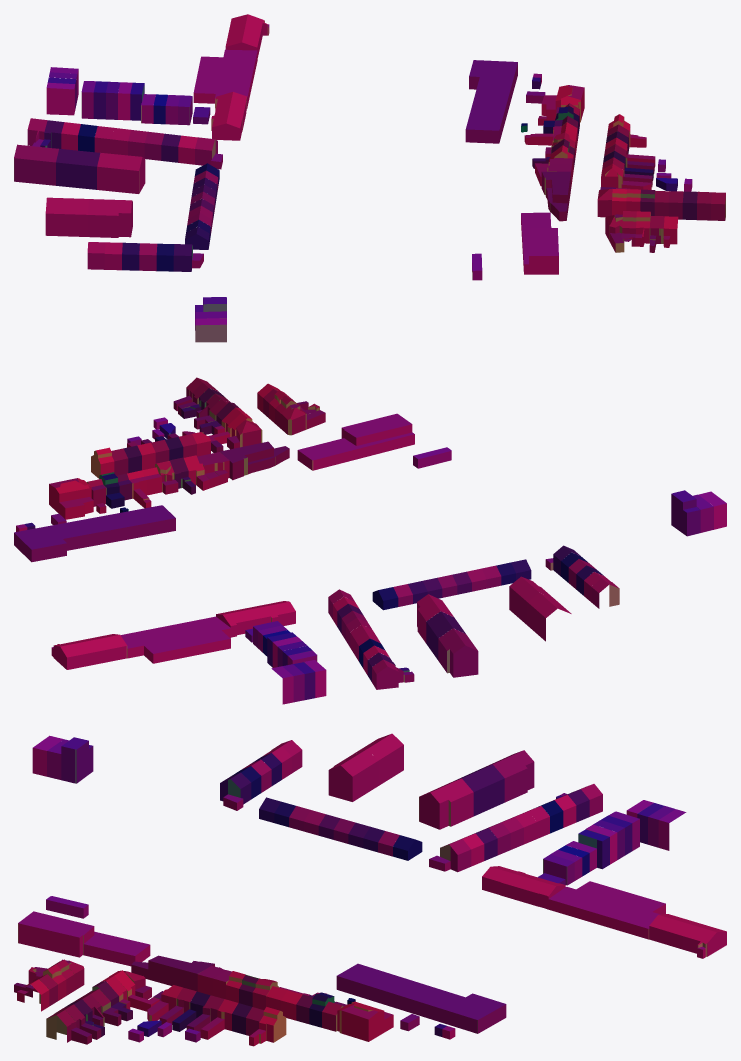
Rendered from buildings_4_7.glb.
3 views of the same model, one above another, from view 1: azimuth 30°, elevation 25°; view 2: azimuth 150°, elevation 25°; view 3: azimuth 270°, elevation 25° (orthographic). The views are drawn at different scales.
Parts seen in each view (by area): view 1: buildings_4_7; view 2: buildings_4_7; view 3: buildings_4_7.
Part boxes in pixels (x1=…): buildings_4_7: x1=14, y1=14, x2=725, y2=342; buildings_4_7: x1=14, y1=377, x2=726, y2=704; buildings_4_7: x1=14, y1=733, x2=726, y2=1046.
Size of the model in its own units: 209 by 11.63 by 220.
